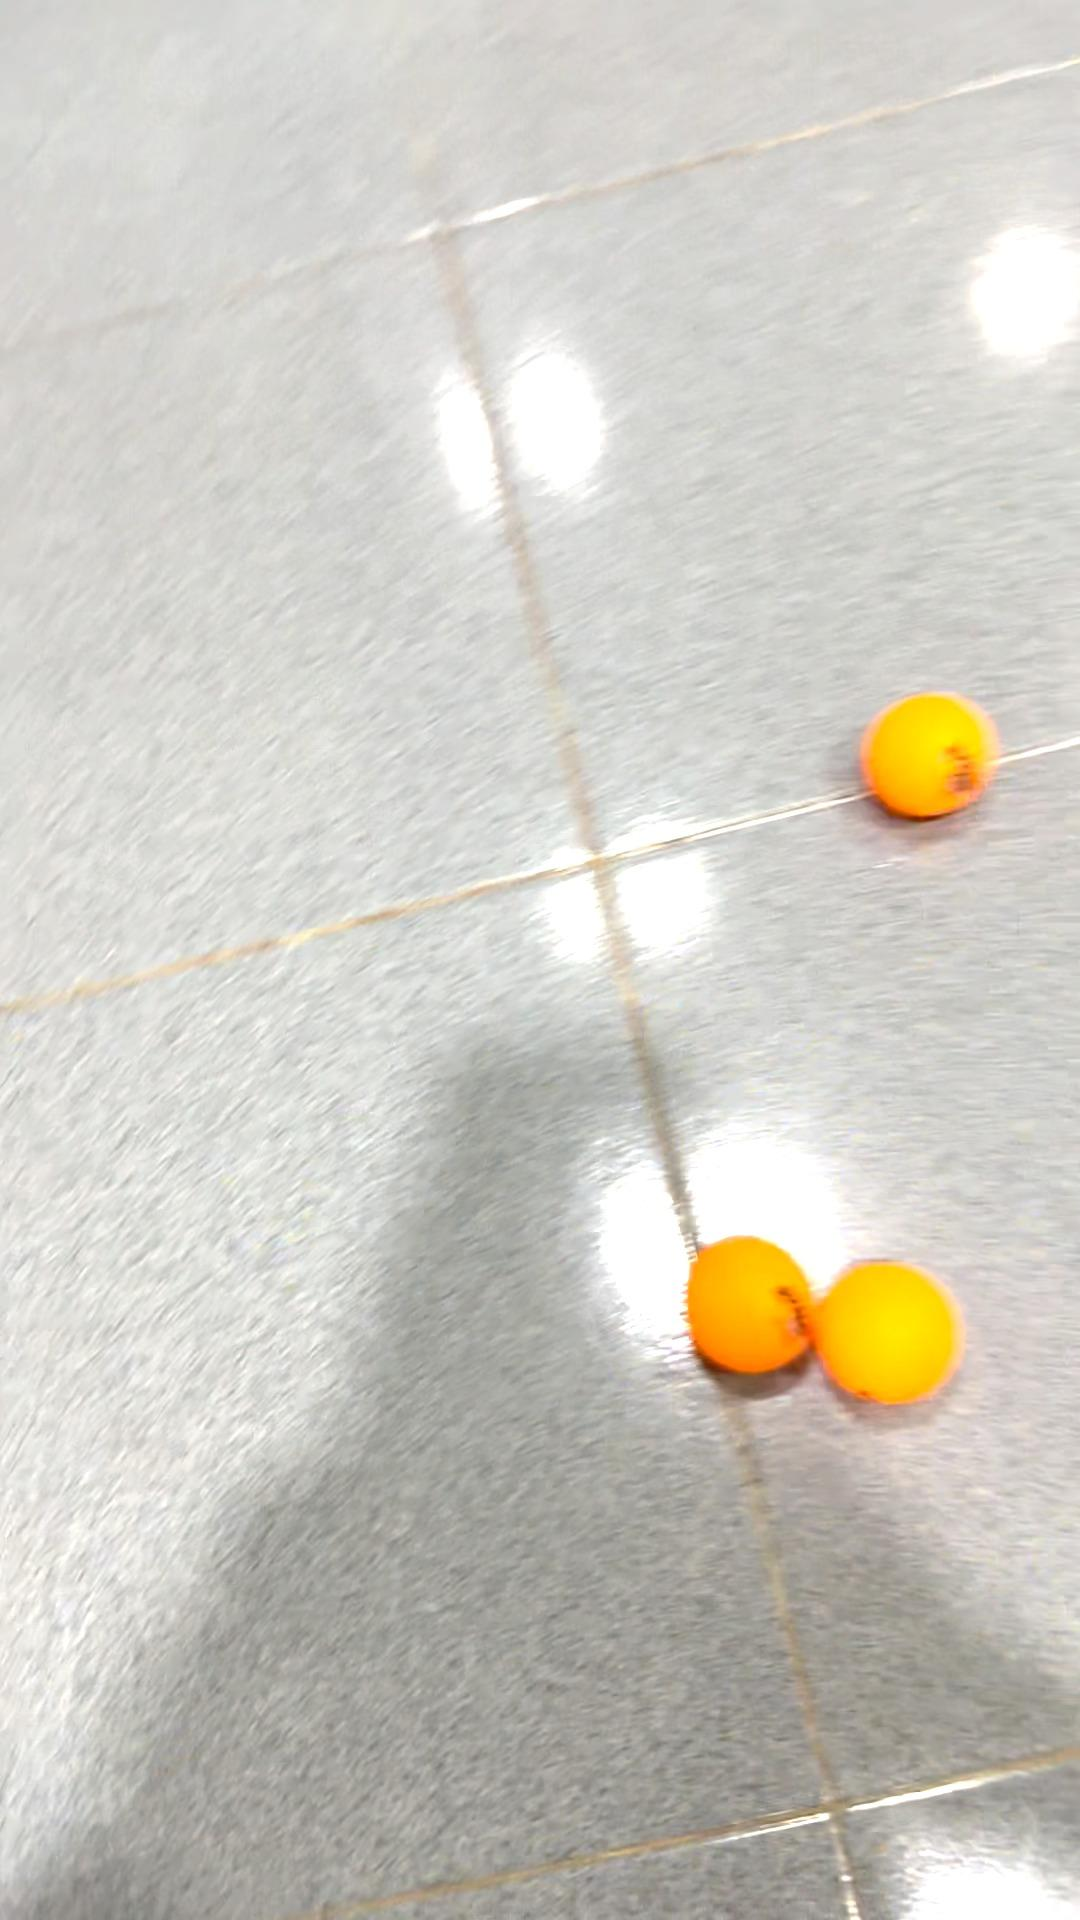oball: (822, 1253, 971, 1412), (855, 678, 1002, 828), (686, 1225, 815, 1386)
